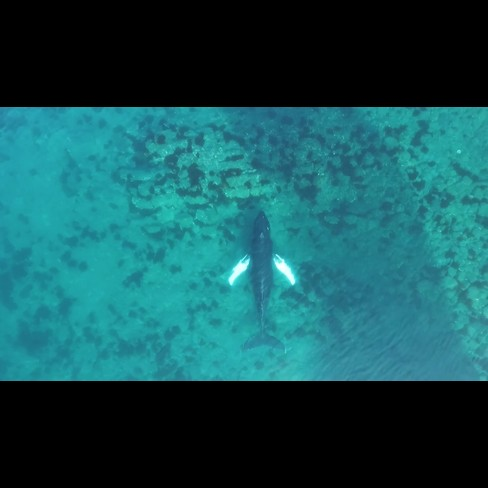hump: (221, 204, 300, 360)
